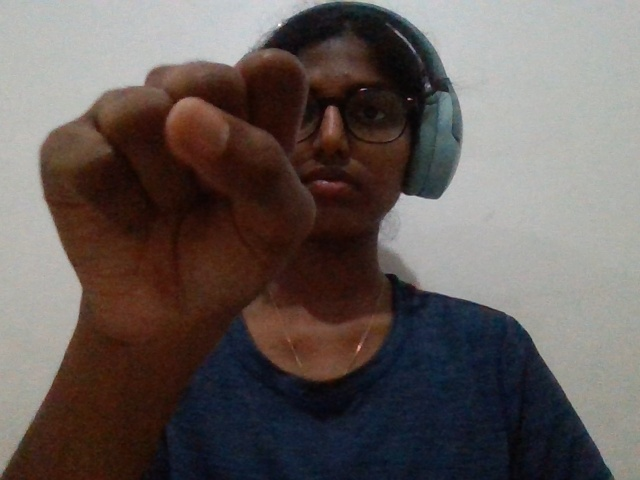Yes: (28, 34, 328, 385)
